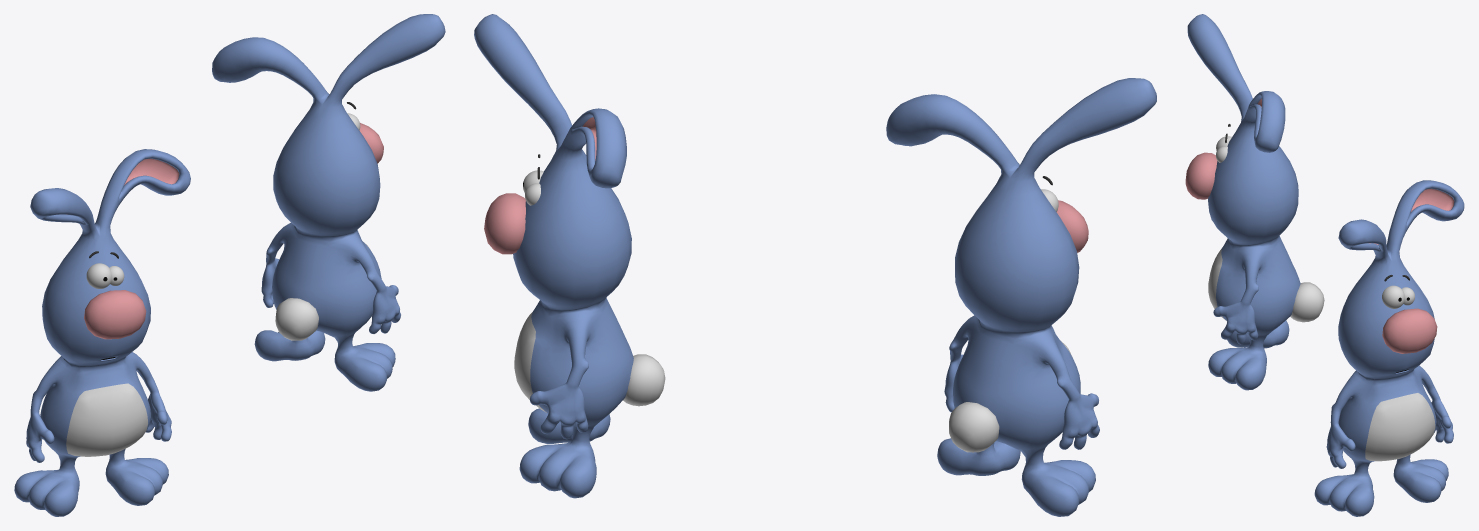
3 renders of one model, left to right at view 1: azimuth 30°, elevation 25°; view 2: azimuth 150°, elevation 25°; view 3: azimuth 270°, elevation 25°, orthographic. The views are drawn at different scales.
Parts seen in each view (by area): view 1: rabbit_po1, rabbit_pos; view 2: rabbit_pos, rabbit_po1; view 3: rabbit_po1, rabbit_pos.
Boxes of the visible parts, x1=… form: rabbit_po1: x1=212, y1=14, x2=445, y2=391; rabbit_pos: x1=14, y1=149, x2=190, y2=516; rabbit_pos: x1=886, y1=78, x2=1156, y2=516; rabbit_po1: x1=474, y1=14, x2=665, y2=498; rabbit_po1: x1=1314, y1=180, x2=1464, y2=516; rabbit_pos: x1=1185, y1=14, x2=1324, y2=390.
Bounding box in the file's own units: 8.23 × 5.53 × 4.45.
